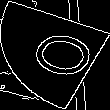O_SE: (13, 25, 97, 85)
